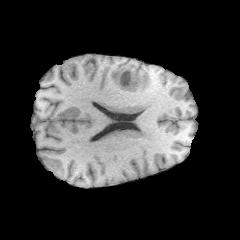glioma: (111, 60, 150, 91)
